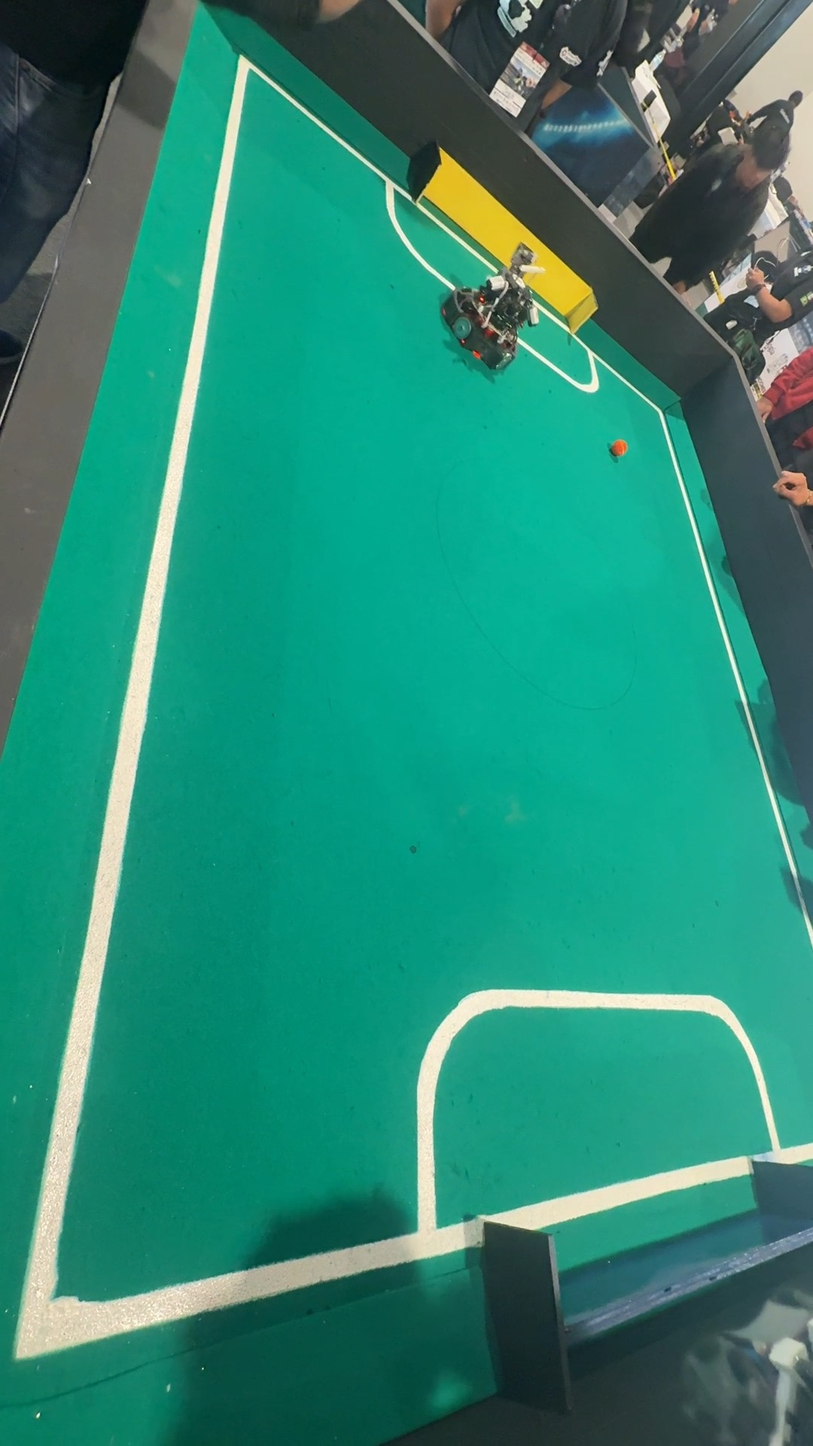Robot: (430, 234, 539, 389)
pelota: (605, 424, 629, 458)
